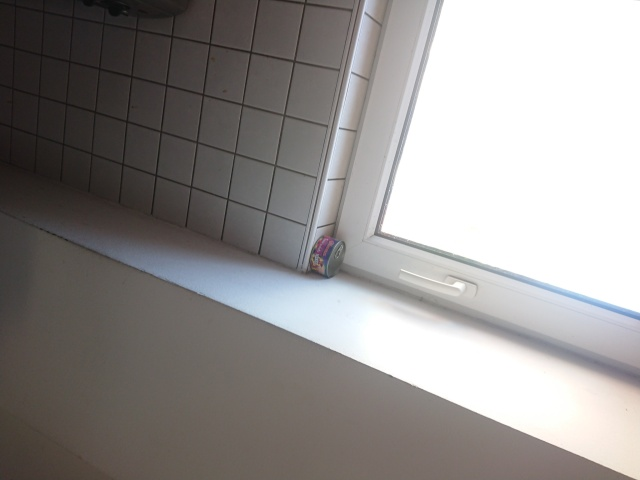Giana Tuna Salad Mexico 185g: (307, 234, 347, 281)
